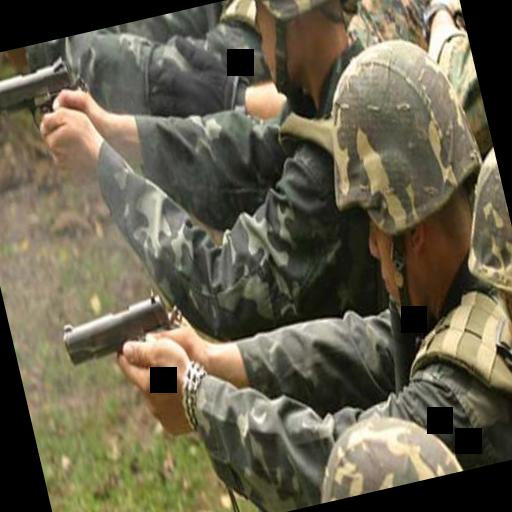Handgun: (52, 286, 196, 424), (0, 42, 97, 151)
